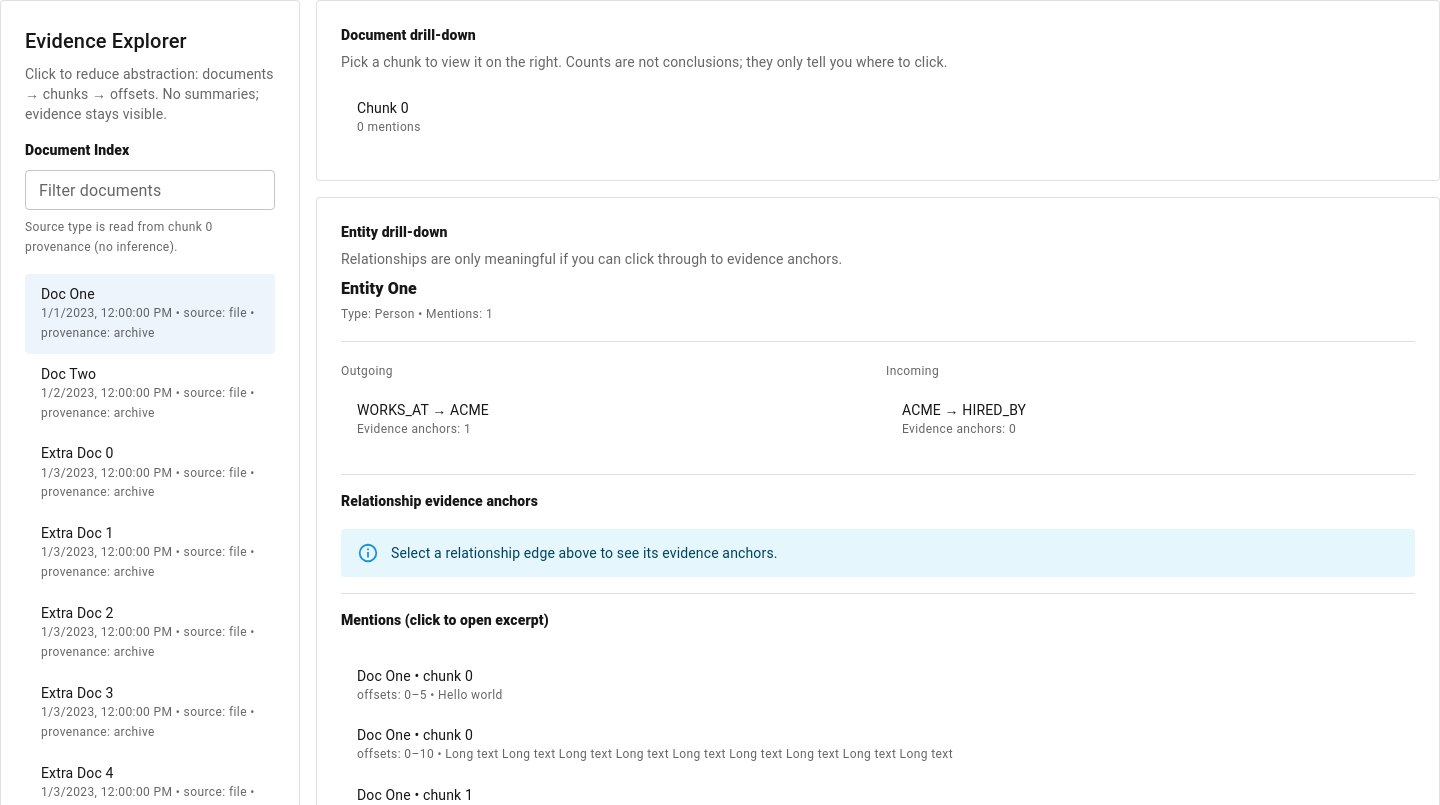
it: EvidenceExplorer › shows badge info and handles prefetch
# Trigger evidence panel badge
Step 1. Click the text "Doc One" → (68, 294), box 41,286 -> 95,302
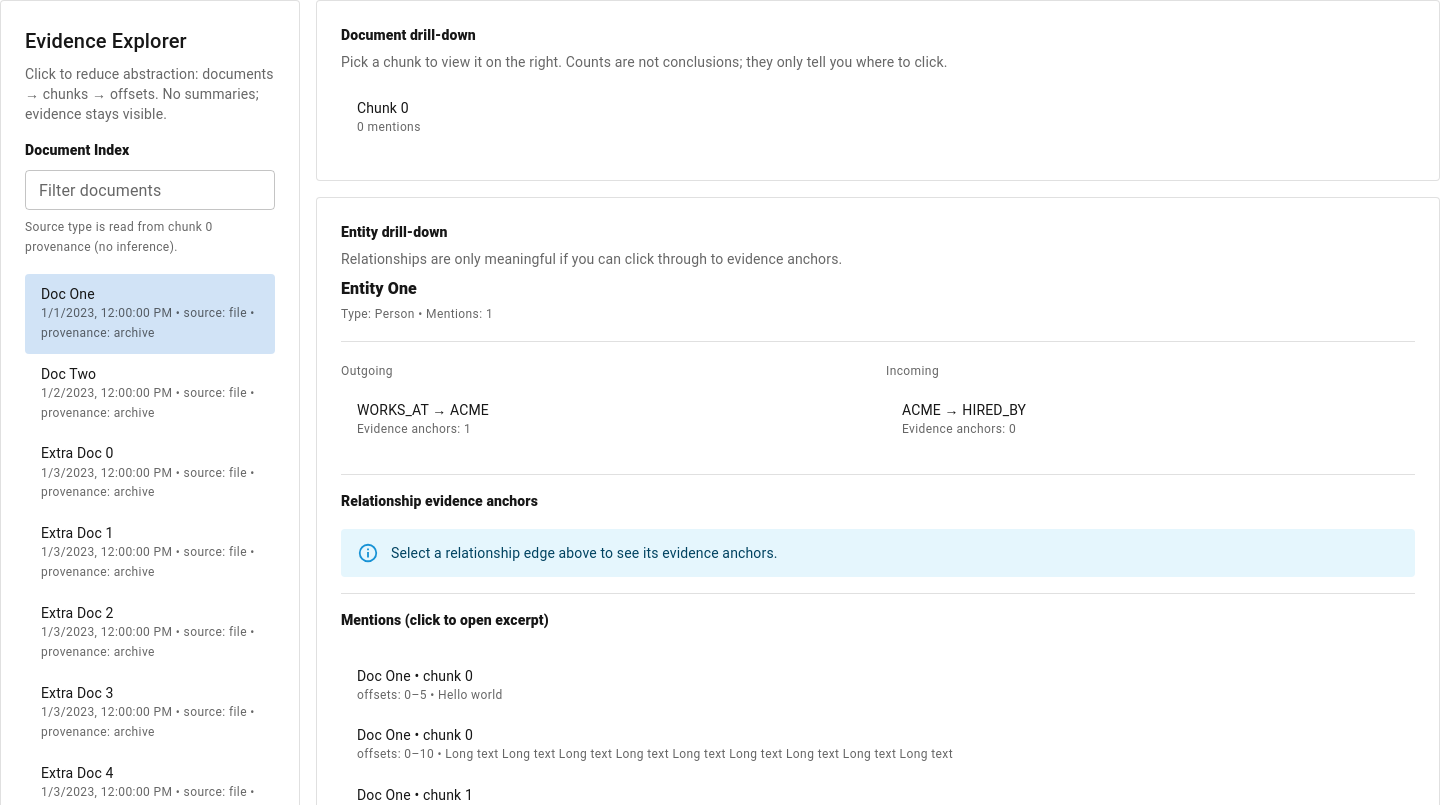
Step 2. Click the text "Chunk 0" → (383, 108), box 357,100 -> 409,116
(page scrolled)
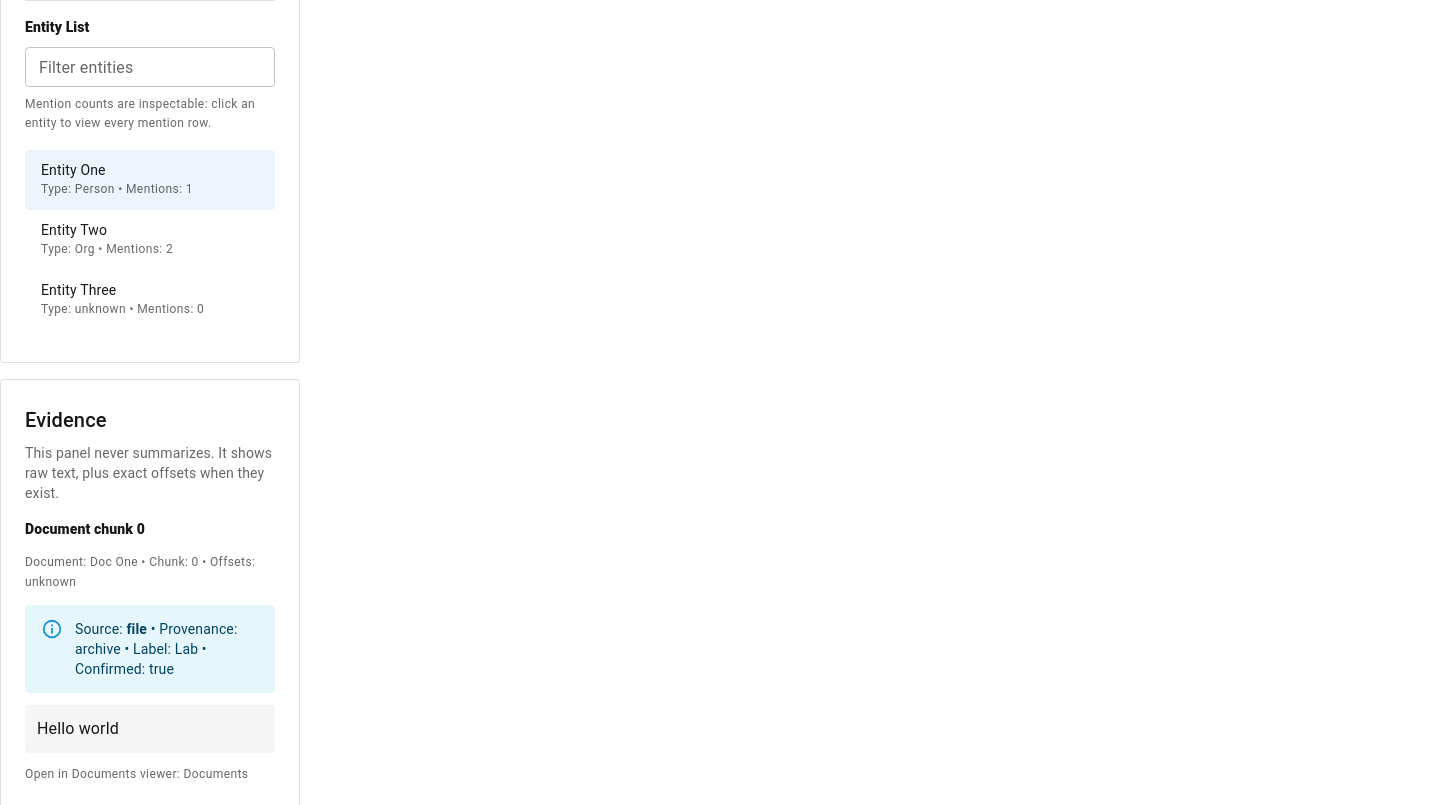
Now the text "Source:" is shown, box 75,621 -> 126,637
Now the text "archive" is shown, box 75,621 -> 238,657
